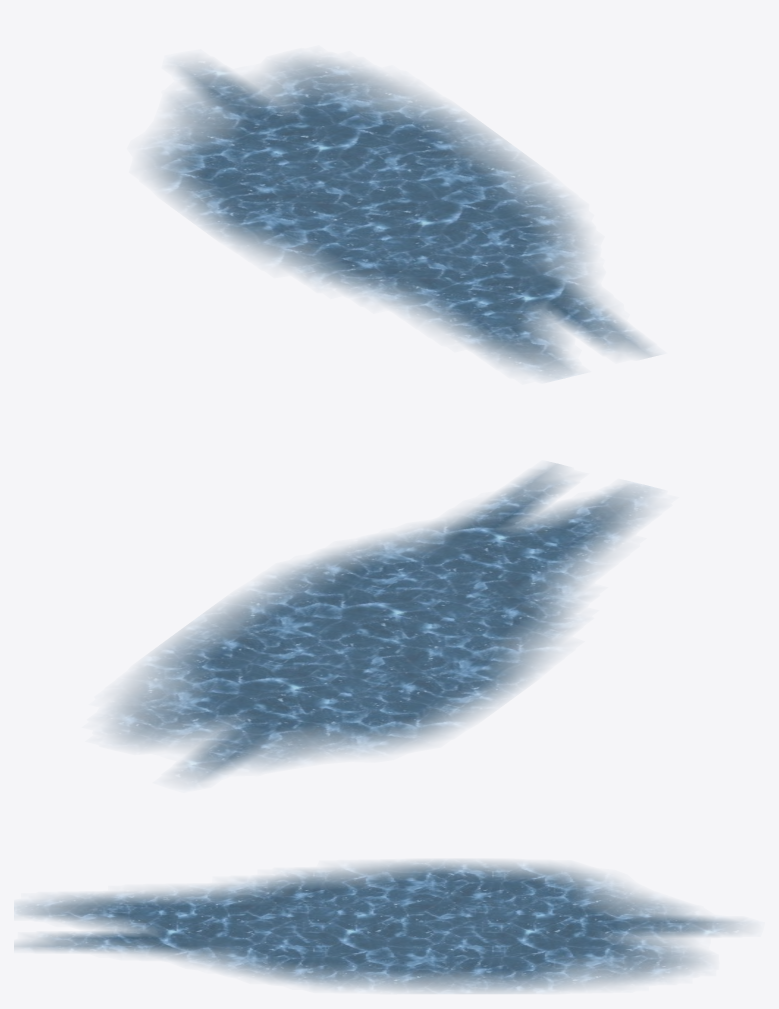
File: ice_patch.glb
3 views of the same model, one above another, from view 1: azimuth 30°, elevation 25°; view 2: azimuth 150°, elevation 25°; view 3: azimuth 270°, elevation 25° (orthographic). The views are drawn at different scales.
Visible parts, largest first — view 1: ice_patch; view 2: ice_patch; view 3: ice_patch.
Part boxes in pixels (box(x1,y1,x2,y2)): ice_patch: box(143, 55, 655, 380); ice_patch: box(104, 463, 655, 784); ice_patch: box(14, 860, 746, 993).
Size of the model in its own units: 6 by 0.015 by 14.
Materials: 1 (1 with a texture image).
